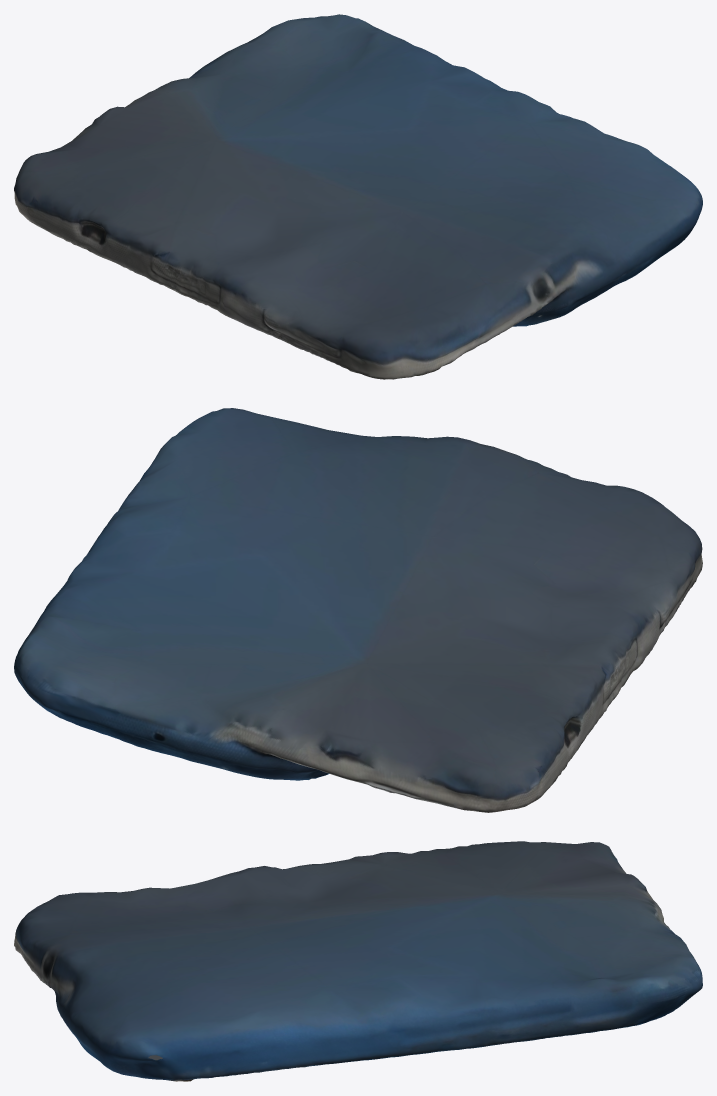
File: lg_extravert_2.glb
3 views of the same model, one above another, from view 1: azimuth 30°, elevation 25°; view 2: azimuth 150°, elevation 25°; view 3: azimuth 270°, elevation 25° (orthographic). The views are drawn at different scales.
Visible parts, largest first — view 1: 3DModel; view 2: 3DModel; view 3: 3DModel.
Boxes of the visible parts, x1,y1,x2,y2 form: 3DModel: (14,14,702,379); 3DModel: (14,408,702,812); 3DModel: (14,841,702,1081).
Size of the model in its own units: 0.6355 by 0.1185 by 0.7547.
Materials: 1 (1 with a texture image).
